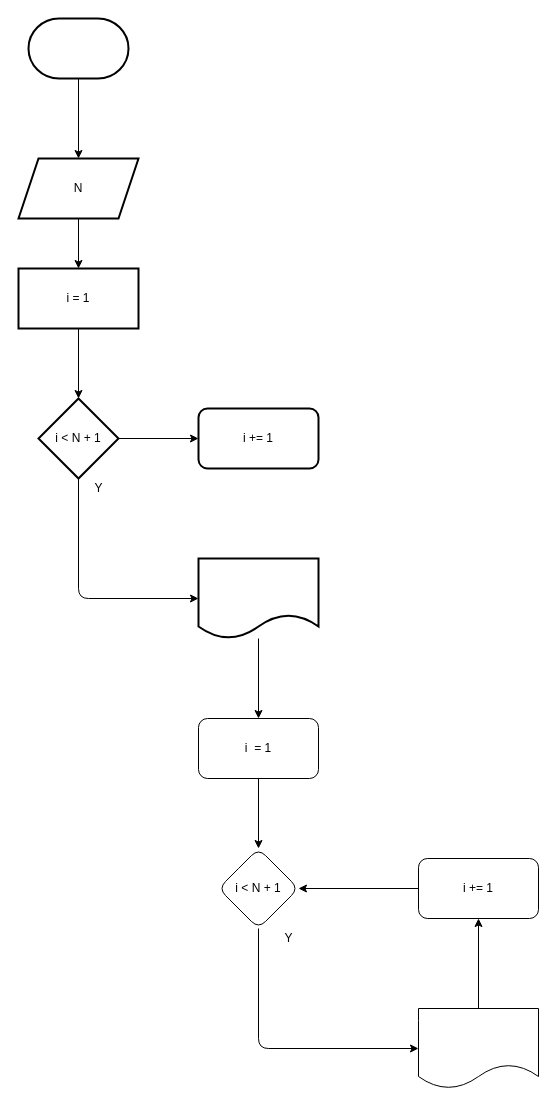
This 556x1106 diagram has some shape labels left out. The shapes that lost their labels are listed below. From the top down, each one's centre as x and y in pixels, then its label:
[78,48]: start
[258,598]: i *
[478,1048]: i * *
